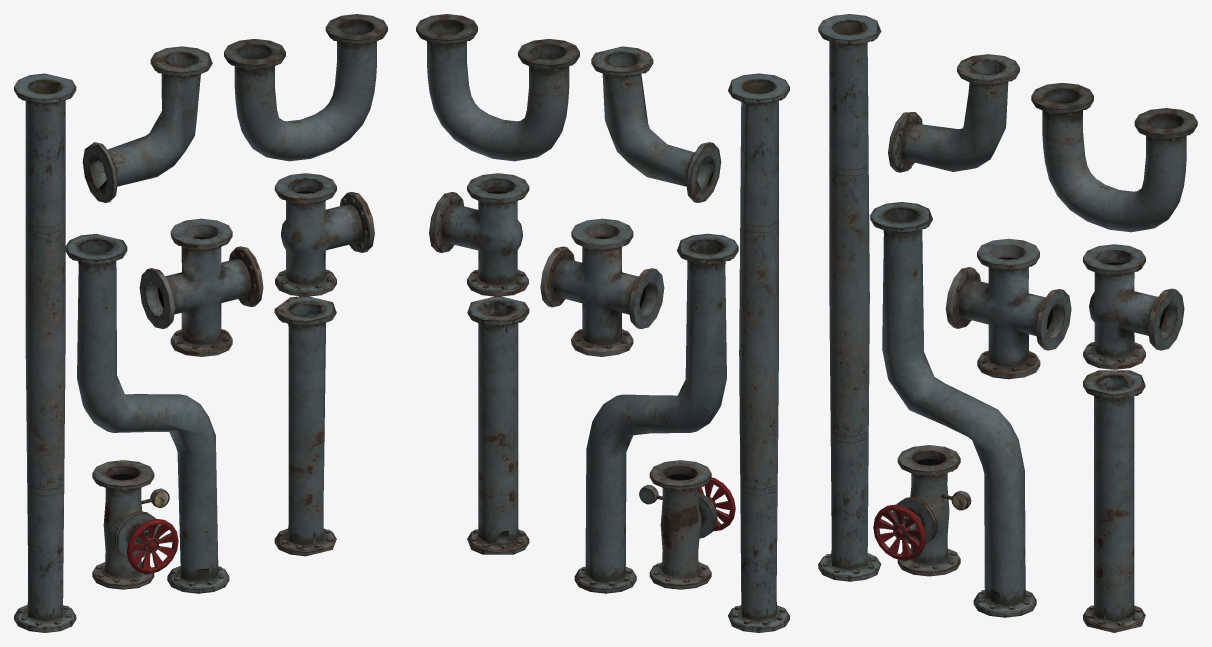
The model's file is pipes-industrial.a285687d.glb.
The picture shows the model from 3 angles, left to right: view 1: azimuth 30°, elevation 25°; view 2: azimuth 150°, elevation 25°; view 3: azimuth 330°, elevation 25°; orthographic projection.
Visible parts, largest first — view 1: model; view 2: model; view 3: model.
Boxes of the visible parts, left/top/right/bottom form: model: left=14, top=14, right=387, bottom=632; model: left=416, top=14, right=789, bottom=632; model: left=818, top=14, right=1197, bottom=632.
Size of the model in its own units: 1.4 by 1.95 by 0.3075.
2 materials, 2 textured.
